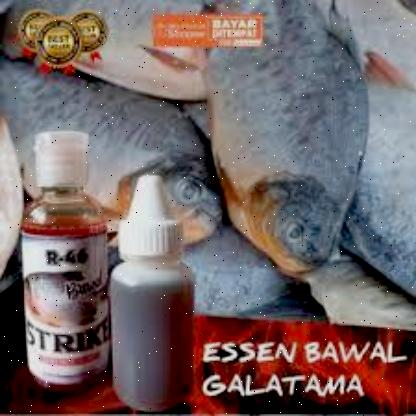ikan-pacu: (203, 0, 375, 280), (0, 66, 228, 247)
